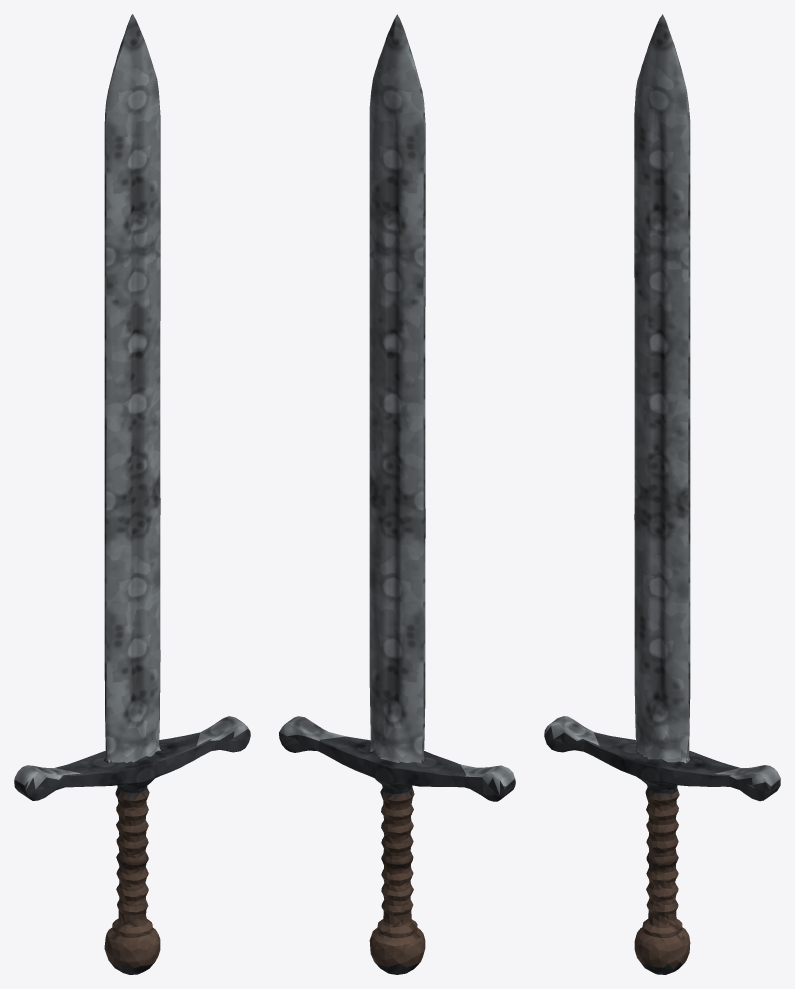
The model's file is sword.glb.
The picture shows the model from 3 angles, left to right: view 1: azimuth 30°, elevation 25°; view 2: azimuth 150°, elevation 25°; view 3: azimuth 330°, elevation 25°; orthographic projection.
Parts seen in each view (by area): view 1: Sword_Raw; view 2: Sword_Raw; view 3: Sword_Raw.
Boxes of the visible parts, x1,y1,x2,y2 form: Sword_Raw: (14, 14, 250, 974); Sword_Raw: (279, 14, 515, 974); Sword_Raw: (544, 14, 780, 974).
Bounding box in the file's own units: 0.2424 × 0.9804 × 0.0514.
3 materials, 3 textured.
